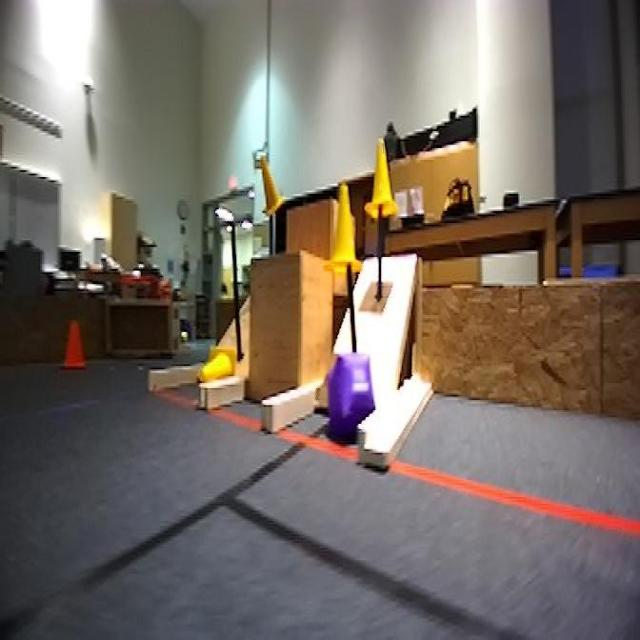frc_cone: (328, 178, 366, 270), (366, 140, 397, 220), (257, 153, 285, 218), (200, 346, 238, 381)
frc_cube: (322, 351, 375, 444)
